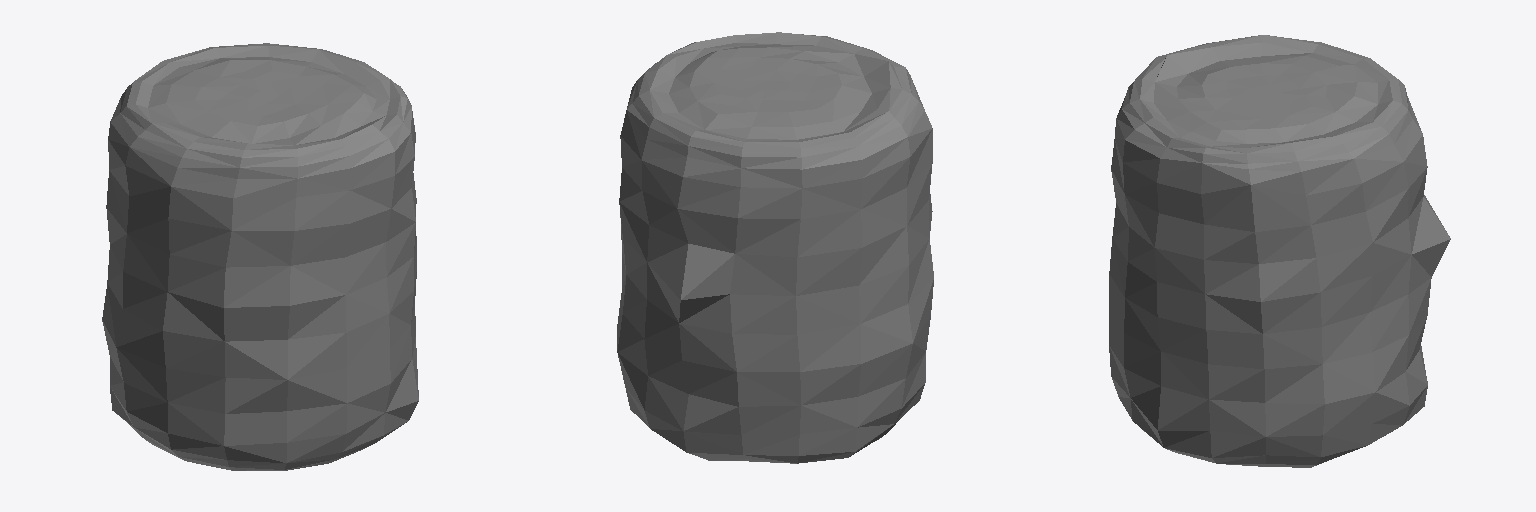
The model's file is stump.obj.
3 renders of one model, left to right at view 1: azimuth 30°, elevation 25°; view 2: azimuth 150°, elevation 25°; view 3: azimuth 270°, elevation 25°, orthographic.
Visible parts, largest first — view 1: ZBrush_defualt_group; view 2: ZBrush_defualt_group; view 3: ZBrush_defualt_group.
Boxes of the visible parts, x1,y1,x2,y2 form: ZBrush_defualt_group: [102, 43, 418, 470]; ZBrush_defualt_group: [617, 32, 933, 463]; ZBrush_defualt_group: [1109, 35, 1450, 467].
Bounding box in the file's own units: 9.27 × 10.55 × 9.65.